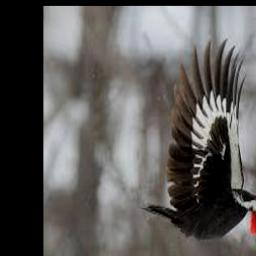Woodpecker: (143, 42, 256, 238)
